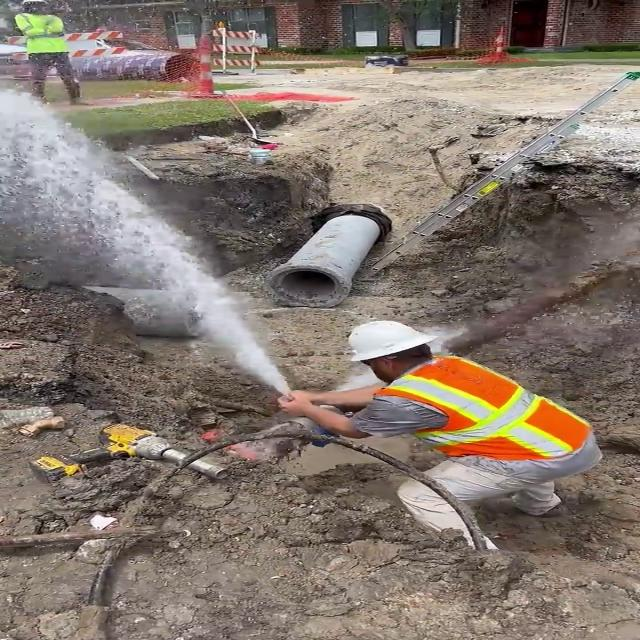leak: (0, 74, 297, 396), (323, 324, 473, 391)
